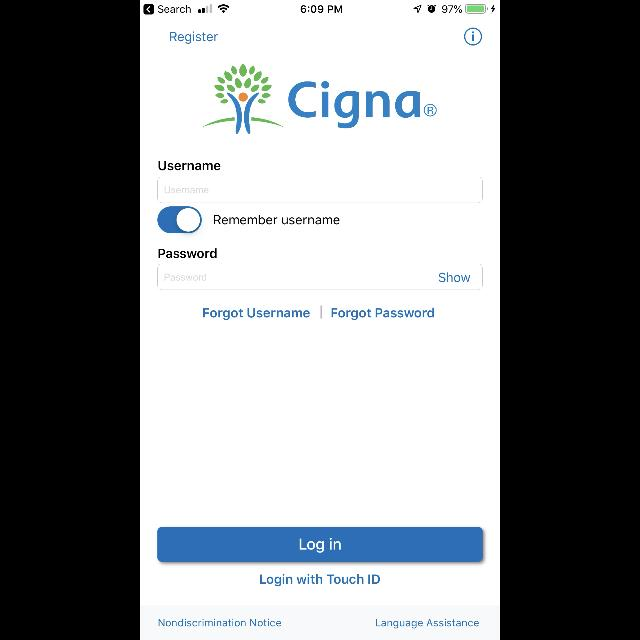icon: (464, 28, 482, 46)
image: (203, 64, 283, 134)
input: (158, 264, 482, 290), (158, 177, 482, 203)
switch: (158, 206, 202, 234)
text: (289, 82, 437, 128), (260, 574, 380, 586), (204, 308, 310, 320), (332, 308, 434, 320), (376, 618, 478, 628), (214, 216, 340, 224), (158, 618, 282, 626), (159, 248, 217, 258), (170, 32, 218, 44), (159, 162, 221, 170), (165, 186, 209, 194), (439, 273, 471, 283), (165, 274, 207, 280)
textbutton: (158, 526, 482, 562)
uppertaskbar: (140, 1, 500, 15)
